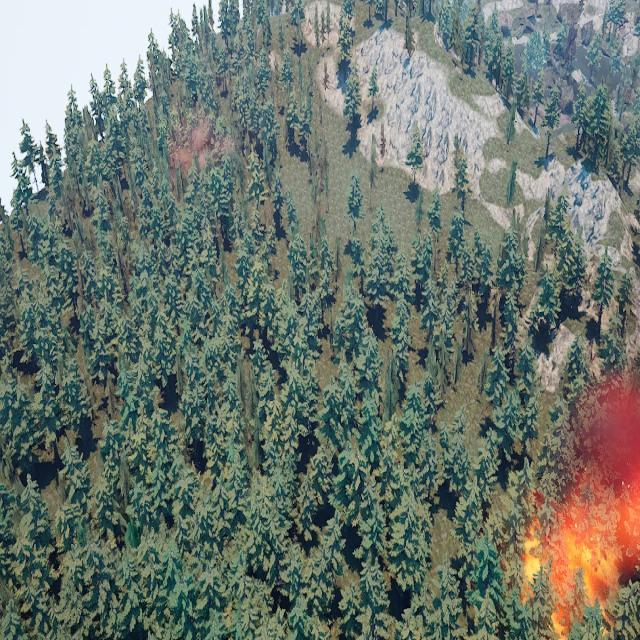fire: (516, 505, 640, 640)
smoke: (524, 363, 640, 621), (172, 112, 232, 178)
